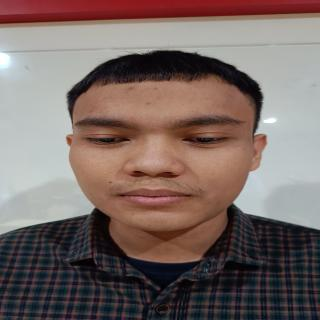Sedih: (65, 77, 267, 240)
